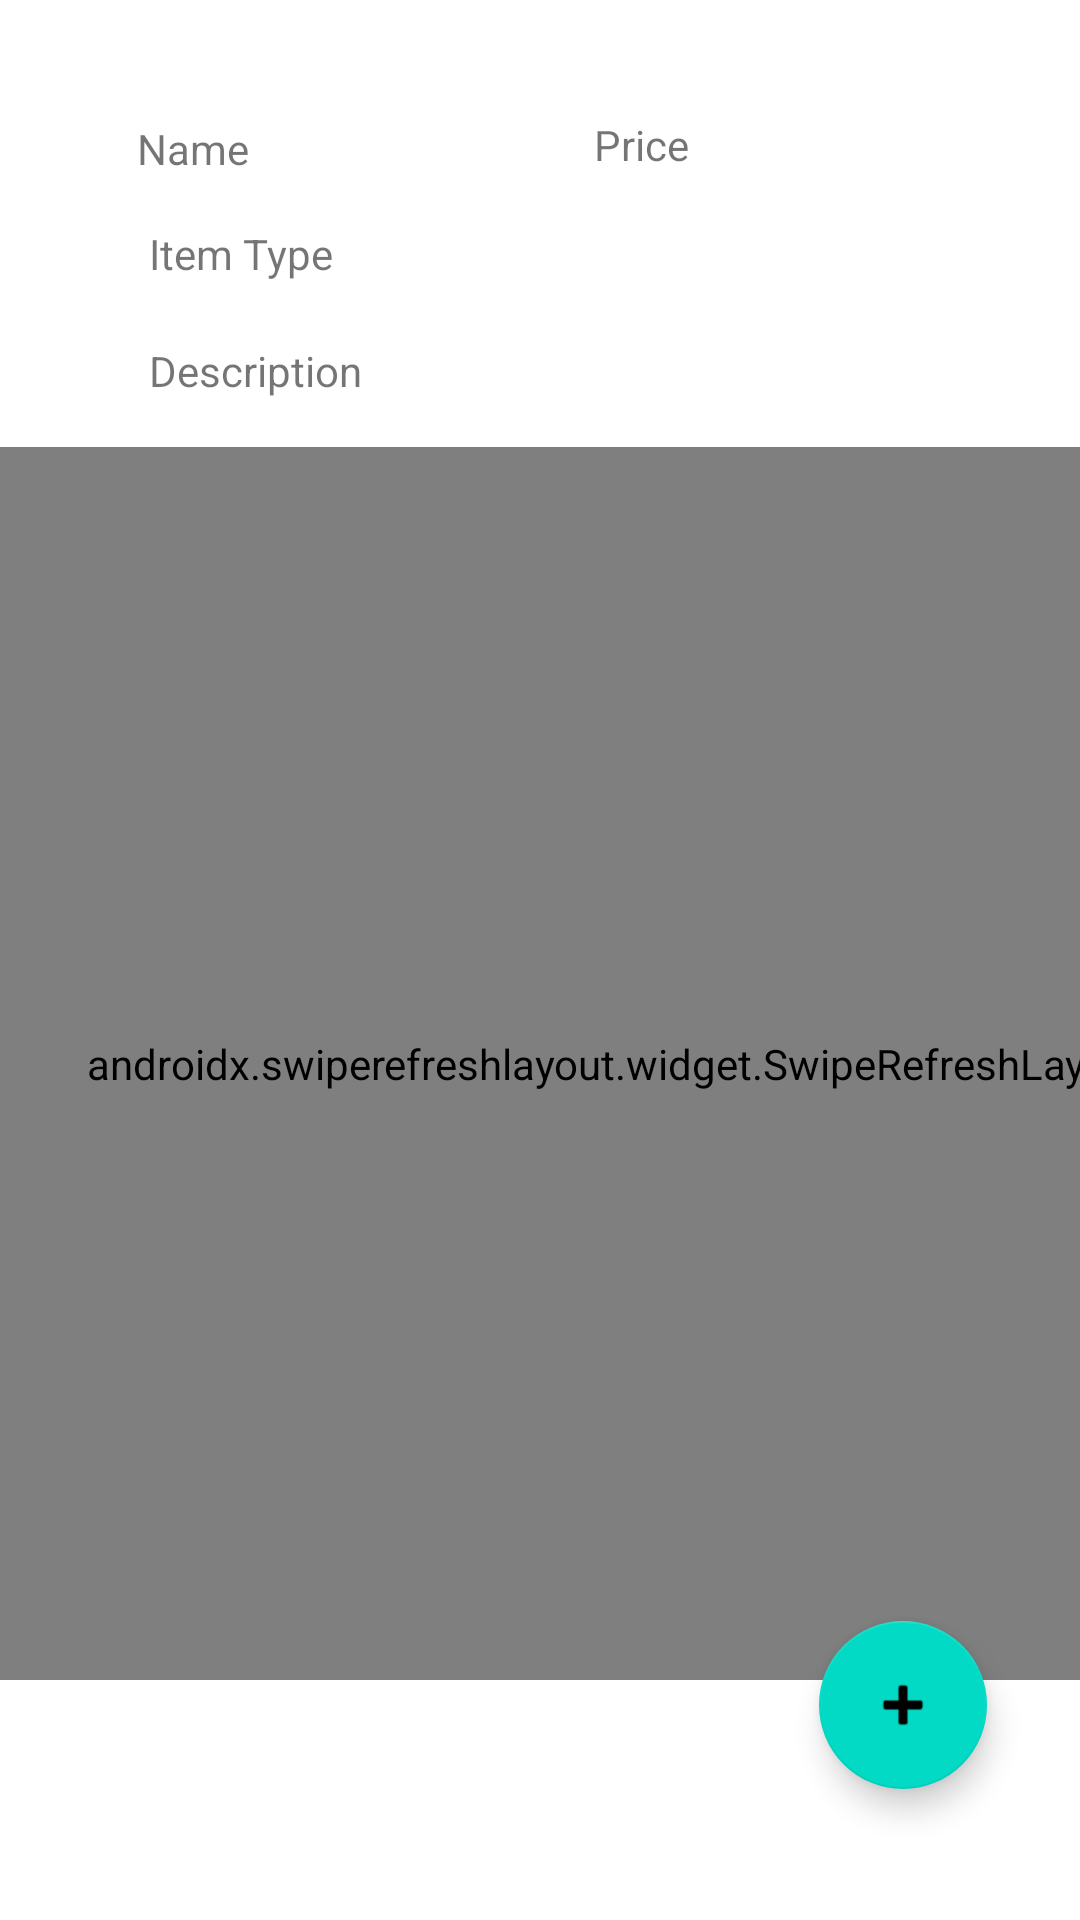

Where to tap for icons on this 1080 x 1920 app screen, as [x,y]:
add: [903,1705]
